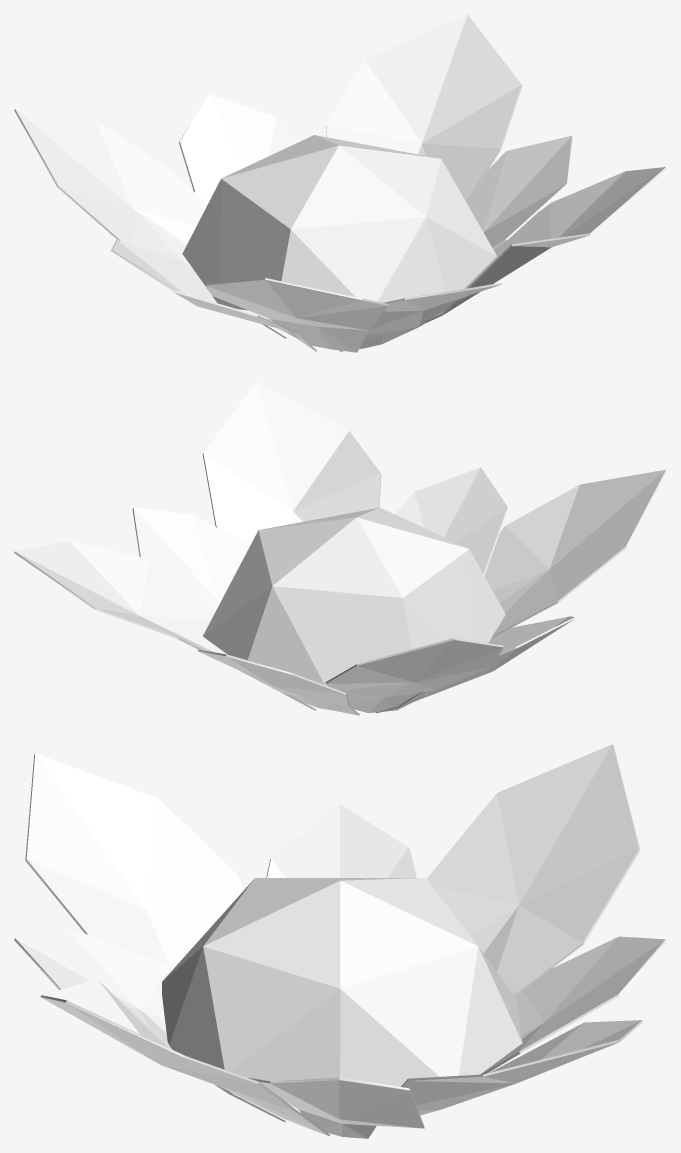
The model's file is Crop_Cauliflower_STAGE_3_01.glb.
The picture shows the model from 3 angles, top to bottom: view 1: azimuth 30°, elevation 25°; view 2: azimuth 150°, elevation 25°; view 3: azimuth 270°, elevation 25°; orthographic projection. The views are drawn at different scales.
Visible parts, largest first — view 1: Crop_Cauliflower_STAGE_3_01; view 2: Crop_Cauliflower_STAGE_3_01; view 3: Crop_Cauliflower_STAGE_3_01.
Part boxes in pixels (<box>): Crop_Cauliflower_STAGE_3_01: <box>14,14,666,352</box>; Crop_Cauliflower_STAGE_3_01: <box>14,381,666,715</box>; Crop_Cauliflower_STAGE_3_01: <box>14,744,666,1138</box>.
Bounding box in the file's own units: 0.4672 × 0.19 × 0.4572.
1 material, 1 textured.
